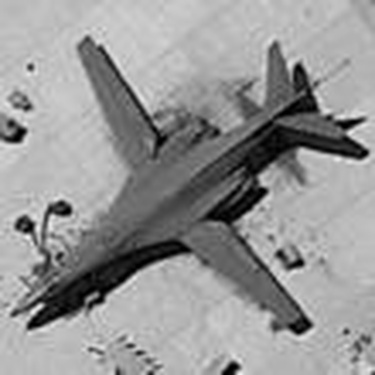airplane: (4, 11, 362, 349)
